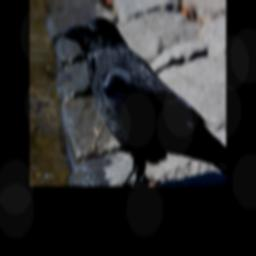Crow: (60, 16, 225, 186)
